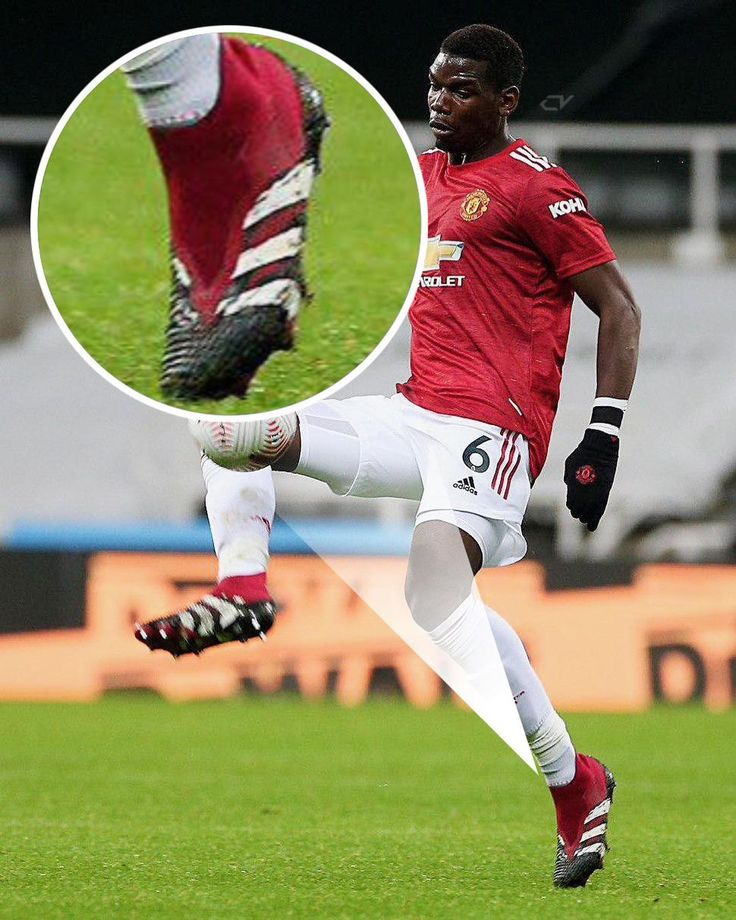football boots: (139, 41, 332, 406), (130, 590, 276, 659), (552, 755, 614, 892)
